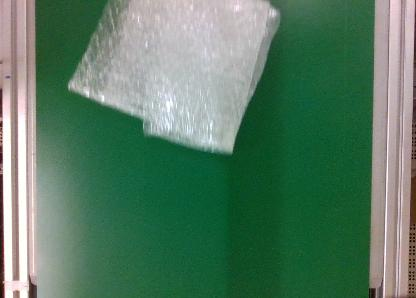Others: (68, 2, 280, 156)
